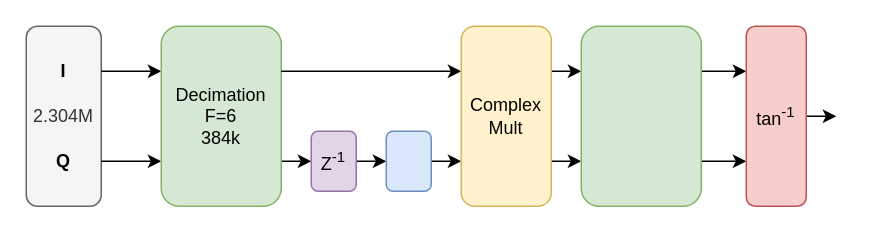
The diagram is 875 pixels wide and 233 high, and some of its shapes have lost their labels. Each missing label, with the centre of its shape:
"Conj" belongs at point (408, 160).
"Decimation F=8 48k" belongs at point (640, 115).
